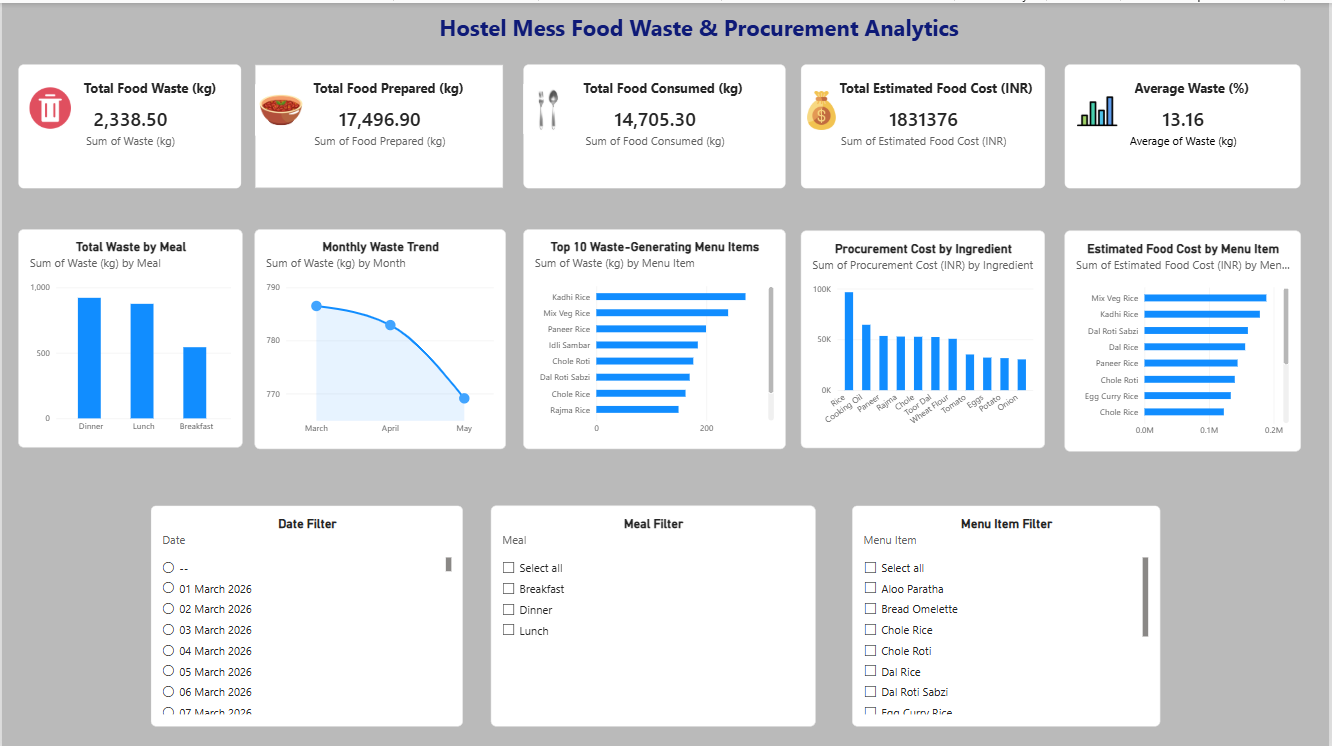

The dashboard page shown, as its layout file describes it:
{"tool":"powerbi","page":{"name":"Page 1","canvas":[1920,1080],"ordinal":0},"visuals":[{"type":"cardVisual","title":"Total Food Waste (kg)","fields":{"Data":["Sum(Meal_Operations.Waste (kg))"]},"box":[23.5,88.7,323.9,181],"z":0},{"type":"cardVisual","title":"Total Food Prepared (kg)","fields":{"Data":["Sum(Meal_Operations.Food Prepared (kg))"]},"box":[365.6,88.7,361.9,181],"z":1000},{"type":"cardVisual","title":"Total Food Consumed (kg)","fields":{"Data":["Sum(Meal_Operations.Food Consumed (kg))"]},"box":[754.6,88.7,380,181],"z":2000},{"type":"cardVisual","title":"Total Estimated Food Cost (INR)","fields":{"Data":["Sum(Meal_Operations.Estimated Food Cost (INR))"]},"box":[1156.4,88.7,354.7,181],"z":3000},{"type":"cardVisual","title":"Average Waste (%)","fields":{"Data":["Avg(Meal_Operations.Waste %)"]},"box":[1538.2,88.7,342,181],"z":4000},{"type":"lineClusteredColumnComboChart","title":"Total Waste by Meal","fields":{"Category":["Meal_Operations.Meal"],"Y":["Sum(Meal_Operations.Waste (kg))"]},"box":[23.5,327.5,324.9,316],"z":5000},{"type":"lineChart","title":"Monthly Waste Trend","fields":{"Category":["Meal_Operations.Date.Variation.Date Hierarchy.Month"],"Y":["Sum(Meal_Operations.Waste (kg))"]},"box":[365.6,327.5,363.7,318.5],"z":6000},{"type":"clusteredBarChart","title":"Top 10 Waste-Generating Menu Items","fields":{"Category":["Meal_Operations.Menu Item"],"Y":["Sum(Meal_Operations.Waste (kg))"]},"box":[754,327.4,380,318],"z":7000},{"type":"clusteredColumnChart","title":"Procurement Cost by Ingredient","fields":{"Category":["Procurement.Ingredient"],"Y":["Sum(Procurement.Procurement Cost (INR))"]},"box":[1156.3,329.7,353.8,315.4],"z":8000},{"type":"clusteredBarChart","title":"Estimated Food Cost by Menu Item","fields":{"Category":["Meal_Operations.Menu Item"],"Y":["Sum(Meal_Operations.Estimated Food Cost (INR))"]},"box":[1538,329.4,342,320],"z":9000},{"type":"textbox","box":[633.4,12.7,758.2,54.3],"z":10000},{"type":"listSlicer","title":"Date Filter","fields":{"Values":["Meal_Operations.Date"]},"box":[216,728,452,320],"z":11000},{"type":"listSlicer","title":"Meal Filter","fields":{"Values":["Meal_Operations.Meal"]},"box":[708,728,470,320],"z":12000},{"type":"listSlicer","title":"Menu Item Filter","fields":{"Values":["Meal_Operations.Menu Item"]},"box":[1231.1,727.7,446,320],"z":13000},{"type":"textbox","box":[82,110,266,56],"z":14000},{"type":"image","box":[40,94,60,116],"z":15000},{"type":"textbox","box":[450,110,240,42],"z":16000},{"type":"textbox","box":[842,110,260,56],"z":17000},{"type":"image","box":[754,114,72,78],"z":19000},{"type":"image","box":[1156,118,60,76],"z":20000},{"type":"image","box":[1556,118,58,78],"z":21000},{"type":"image","box":[365.9,117.2,76.8,74.8],"z":22000},{"type":"textbox","box":[1212,110,280,56],"z":23000},{"type":"textbox","box":[1639.6,110.4,240.7,41.6],"z":23001}]}

Visuals, with their boxes in screenshot pixels (x1, y1, x2, y2), scaled from the page's 1920x1080 canvas onto the 1332x746 screenshot:
"Total Food Waste (kg)" cardVisual: Rect(16, 61, 241, 186)
"Total Food Prepared (kg)" cardVisual: Rect(254, 61, 505, 186)
"Total Food Consumed (kg)" cardVisual: Rect(524, 61, 787, 186)
"Total Estimated Food Cost (INR)" cardVisual: Rect(802, 61, 1048, 186)
"Average Waste (%)" cardVisual: Rect(1067, 61, 1304, 186)
"Total Waste by Meal" lineClusteredColumnComboChart: Rect(16, 226, 242, 444)
"Monthly Waste Trend" lineChart: Rect(254, 226, 506, 446)
"Top 10 Waste-Generating Menu Items" clusteredBarChart: Rect(523, 226, 787, 446)
"Procurement Cost by Ingredient" clusteredColumnChart: Rect(802, 228, 1048, 446)
"Estimated Food Cost by Menu Item" clusteredBarChart: Rect(1067, 228, 1304, 449)
textbox: Rect(439, 9, 965, 46)
"Date Filter" listSlicer: Rect(150, 503, 463, 724)
"Meal Filter" listSlicer: Rect(491, 503, 817, 724)
"Menu Item Filter" listSlicer: Rect(854, 503, 1163, 724)
textbox: Rect(57, 76, 241, 115)
image: Rect(28, 65, 69, 145)
textbox: Rect(312, 76, 479, 105)
textbox: Rect(584, 76, 765, 115)
image: Rect(523, 79, 573, 133)
image: Rect(802, 82, 844, 134)
image: Rect(1079, 82, 1120, 135)
image: Rect(254, 81, 307, 133)
textbox: Rect(841, 76, 1035, 115)
textbox: Rect(1137, 76, 1304, 105)
